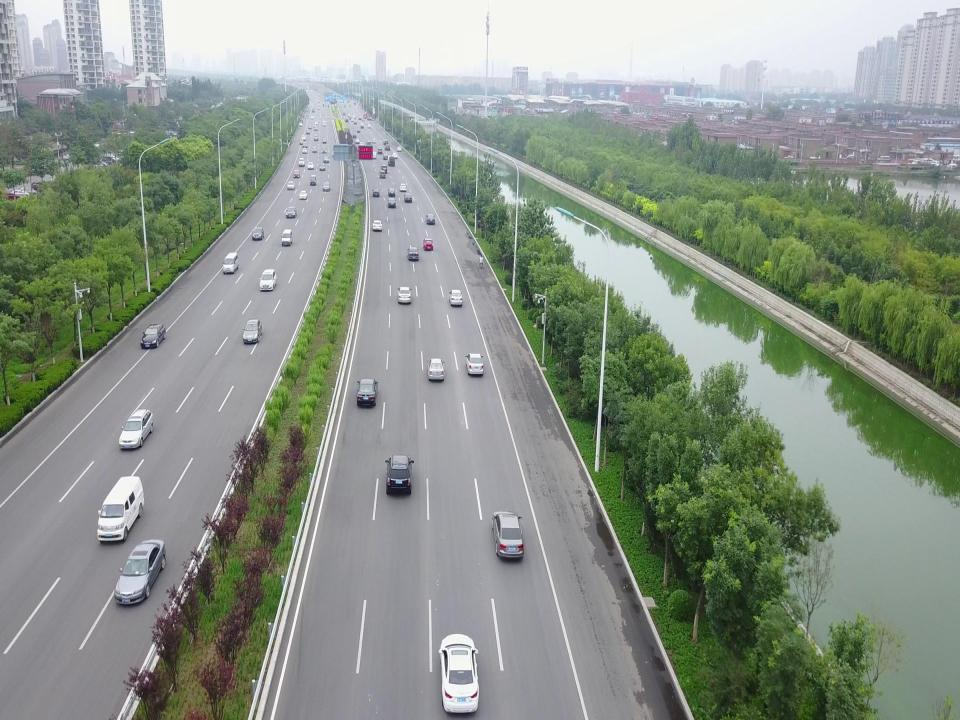car: (437, 634, 480, 716), (114, 539, 166, 606), (491, 510, 525, 560), (118, 409, 154, 449), (385, 454, 414, 496), (140, 323, 166, 349), (356, 377, 378, 407), (243, 319, 263, 344), (464, 352, 484, 376), (426, 358, 446, 381), (259, 269, 277, 291), (448, 288, 464, 306), (396, 286, 412, 303), (252, 226, 265, 241), (407, 246, 419, 261), (422, 238, 434, 252), (285, 206, 297, 219), (372, 219, 383, 232), (425, 213, 435, 225), (387, 197, 397, 209), (299, 190, 308, 200), (404, 193, 412, 203), (388, 187, 396, 197), (378, 169, 386, 179), (287, 180, 295, 190), (298, 157, 306, 167), (372, 188, 380, 197), (399, 183, 407, 192), (380, 164, 388, 173), (307, 161, 315, 170), (293, 169, 300, 178), (370, 151, 377, 159), (319, 163, 325, 171), (323, 155, 329, 163), (384, 144, 390, 152), (321, 146, 327, 153), (392, 152, 398, 159), (396, 145, 402, 152), (377, 147, 383, 154), (354, 137, 360, 144), (366, 140, 372, 147), (311, 146, 317, 152), (298, 138, 304, 144), (300, 135, 306, 141), (313, 135, 319, 141), (382, 153, 388, 159), (383, 139, 389, 145), (351, 133, 357, 139), (356, 127, 361, 134), (302, 147, 307, 153), (302, 142, 308, 147), (322, 138, 327, 144), (372, 138, 377, 143), (360, 141, 364, 147)
van: (97, 475, 145, 542), (223, 252, 239, 276), (281, 228, 293, 247), (387, 155, 395, 167), (322, 182, 330, 192), (310, 174, 316, 186)
